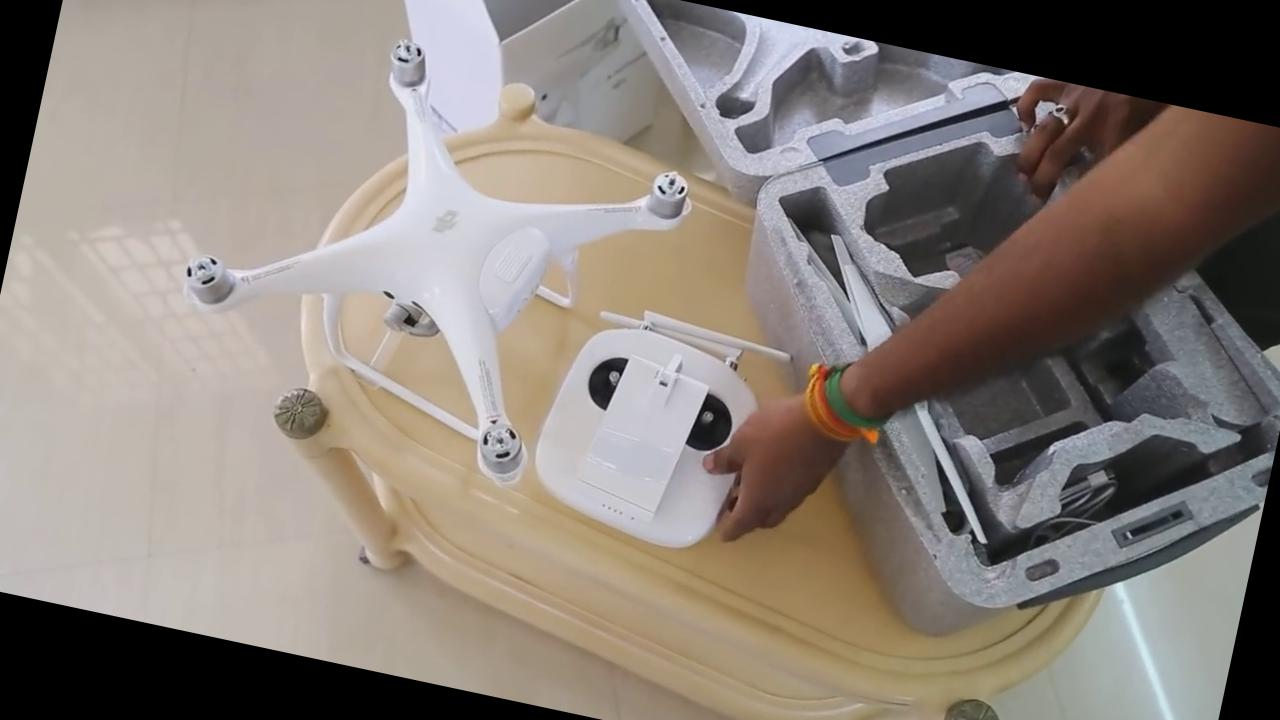drone: (145, 4, 726, 509)
